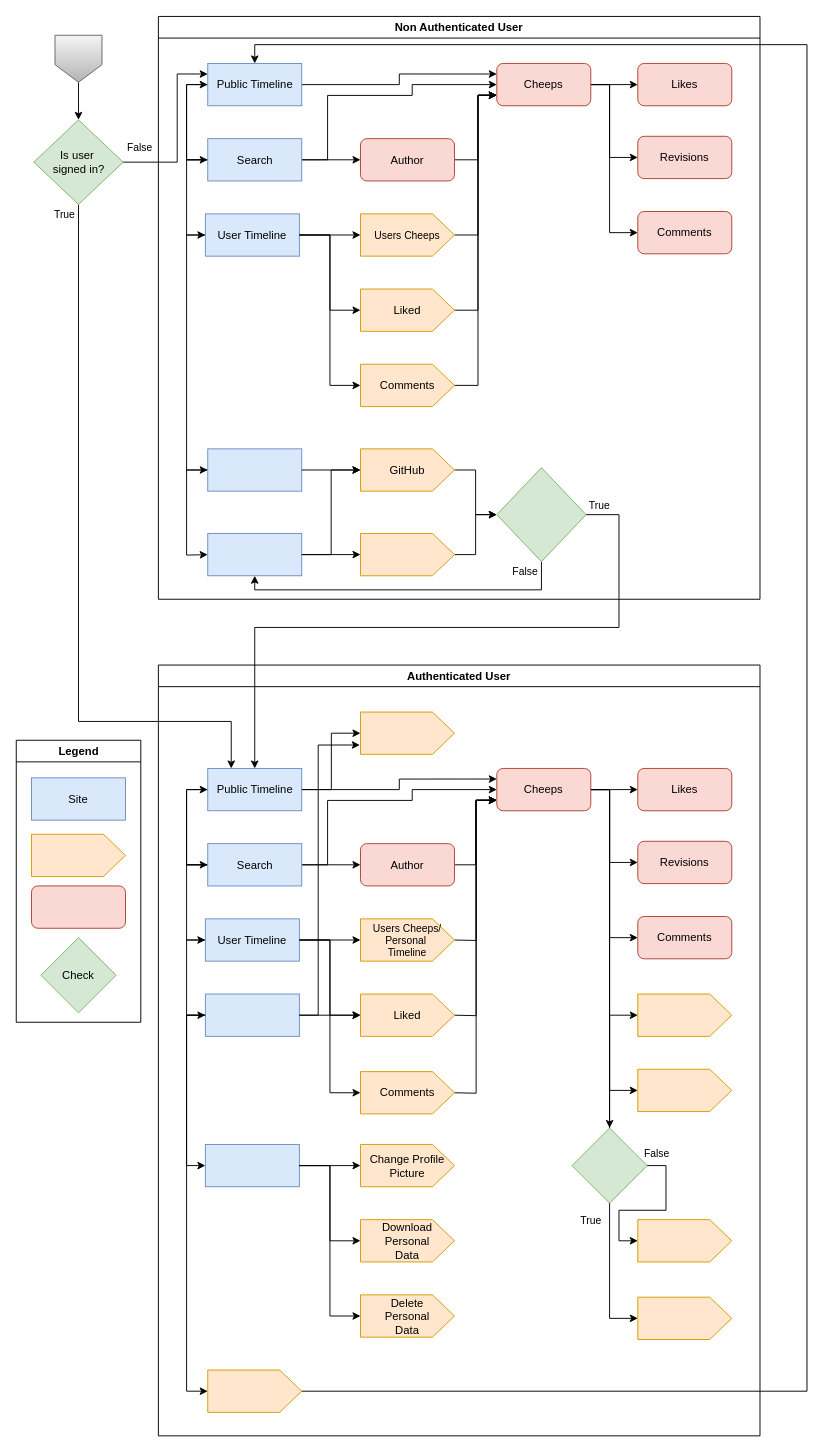
This 832x1452 diagram has some shape labels left out. The shapes that lost their labels are listed below. From the top down, each one's centre as x and y in pixels, then its label:
At [78,58]: "Start".
At [254,469]: "Login".
At [541,514]: "Valid Credentials".
At [254,554]: "Register".
At [407,554]: "Generic Sign In/Up".
At [407,732]: "Write Cheep".
At [78,855]: "Action".
At [78,906]: "Partial/ Attribute".
At [251,1014]: "Profile/ Private Timeline".
At [684,1014]: "Like".
At [684,1090]: "Comment".
At [251,1165]: "Settings".
At [609,1165]: "Is owner of cheep".
At [684,1240]: "Follow".
At [684,1318]: "Edit".
At [254,1390]: "Logout".
